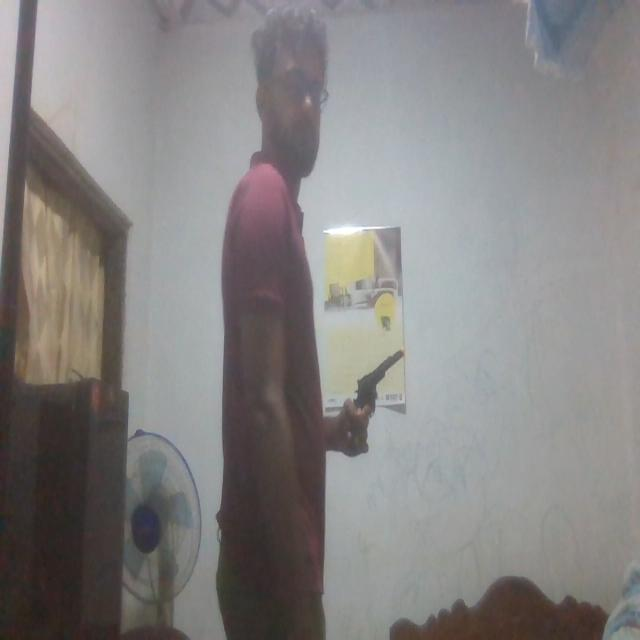Gun_Holder: (341, 348, 408, 450)
Person: (204, 0, 380, 640)
